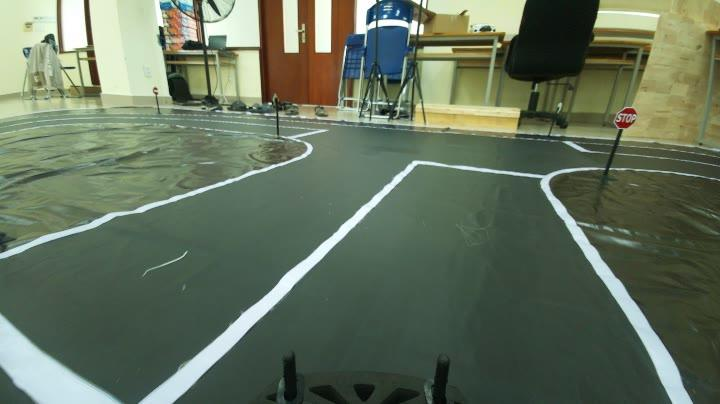stop: (610, 103, 641, 132)
